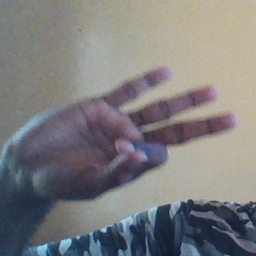K: (19, 66, 237, 201)
